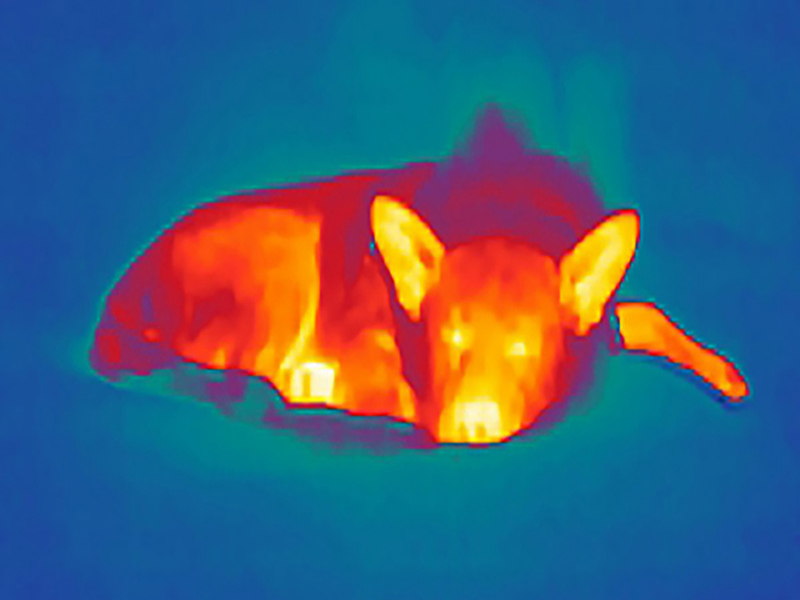cinghiale: (63, 125, 749, 436)
